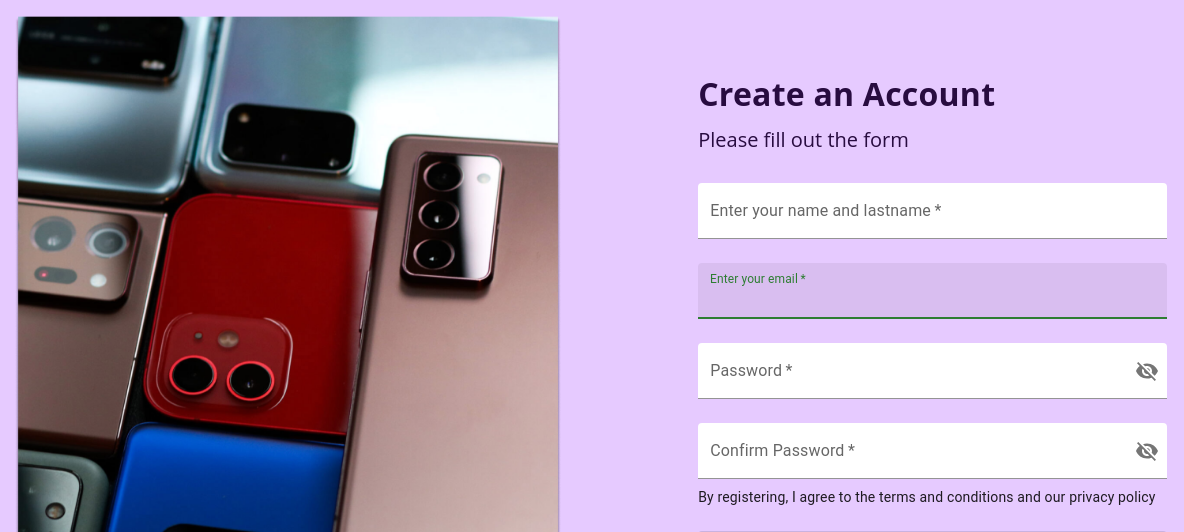
Test: name has at least 2 characters
Click the element with test id "name" at (933, 211), box 698,183 -> 1167,239
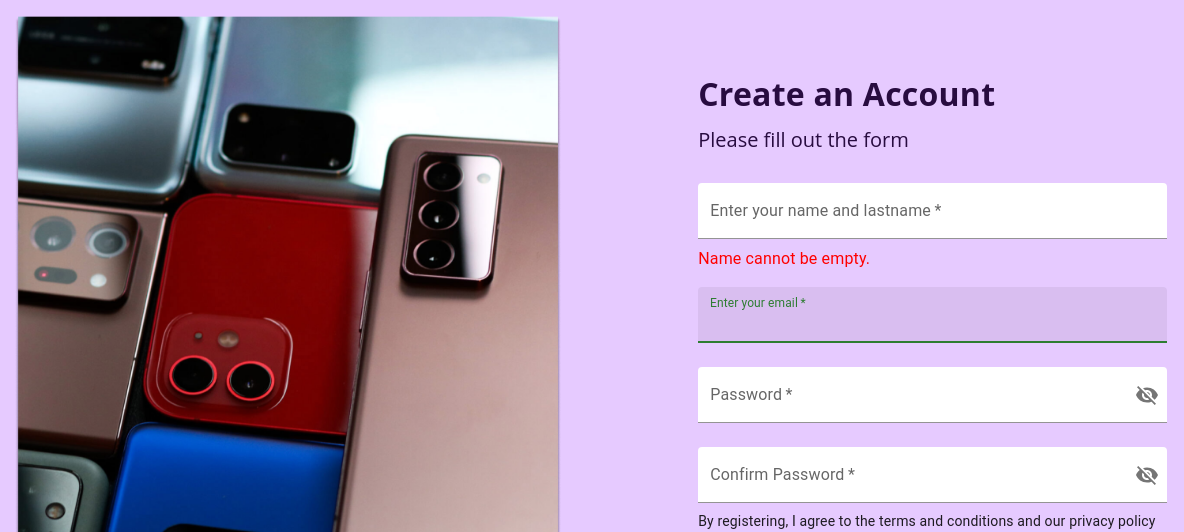
Type "a" into the field labelled "Enter your name and lastname *" at (933, 211), box 698,183 -> 1167,239
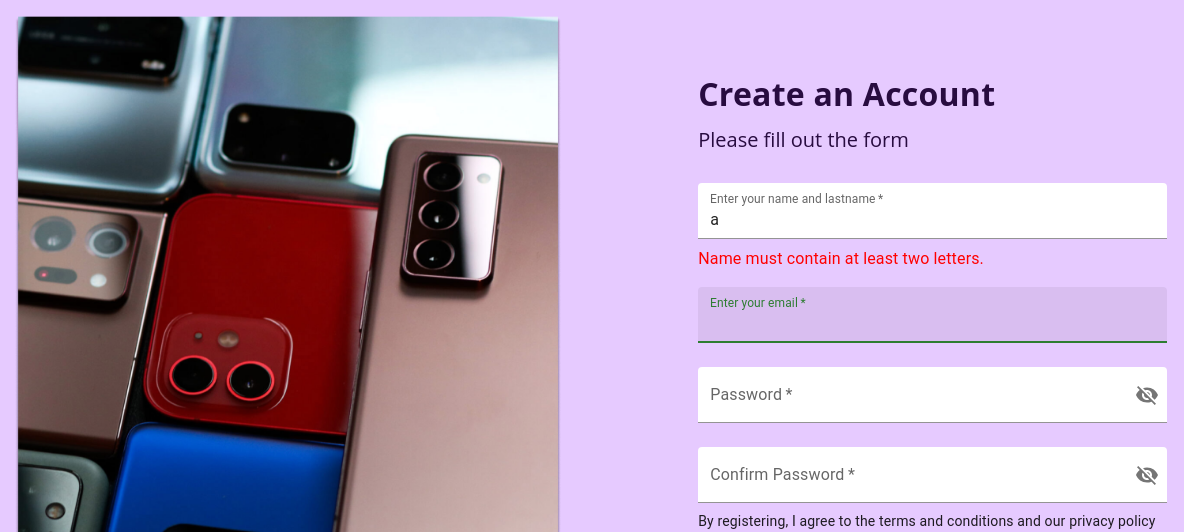
Expected: the text with test id "nameError" reads "Name must contain at least two letters.", 698,249 -> 984,268
